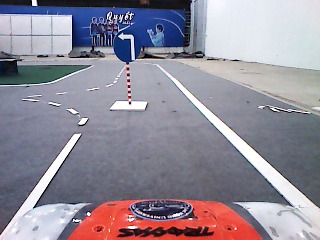turn: (112, 29, 141, 63)
